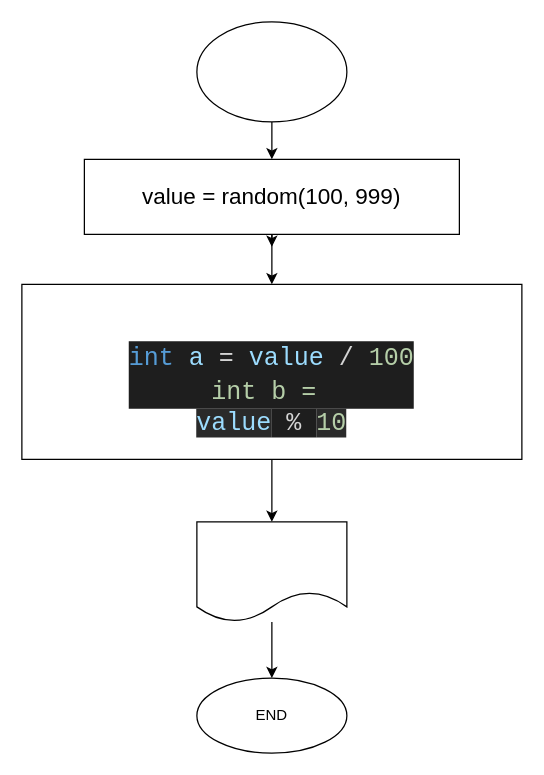
Some shapes in this 544 by 775 pixel diagram are drawn without their labels. The centre of each missing label's shape, as x and y in pixels:
a, b: the point at 271,571
START: the point at 271,71
